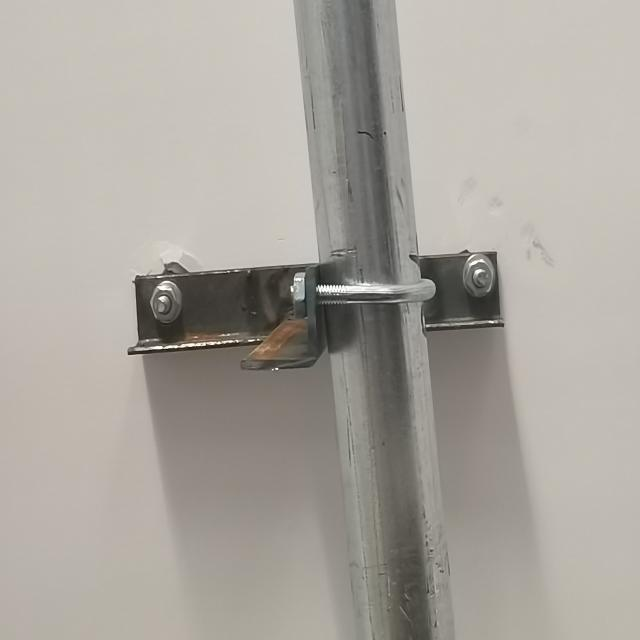bolt nut: (148, 282, 181, 324), (462, 258, 494, 298)
bolt side: (287, 269, 312, 320)
